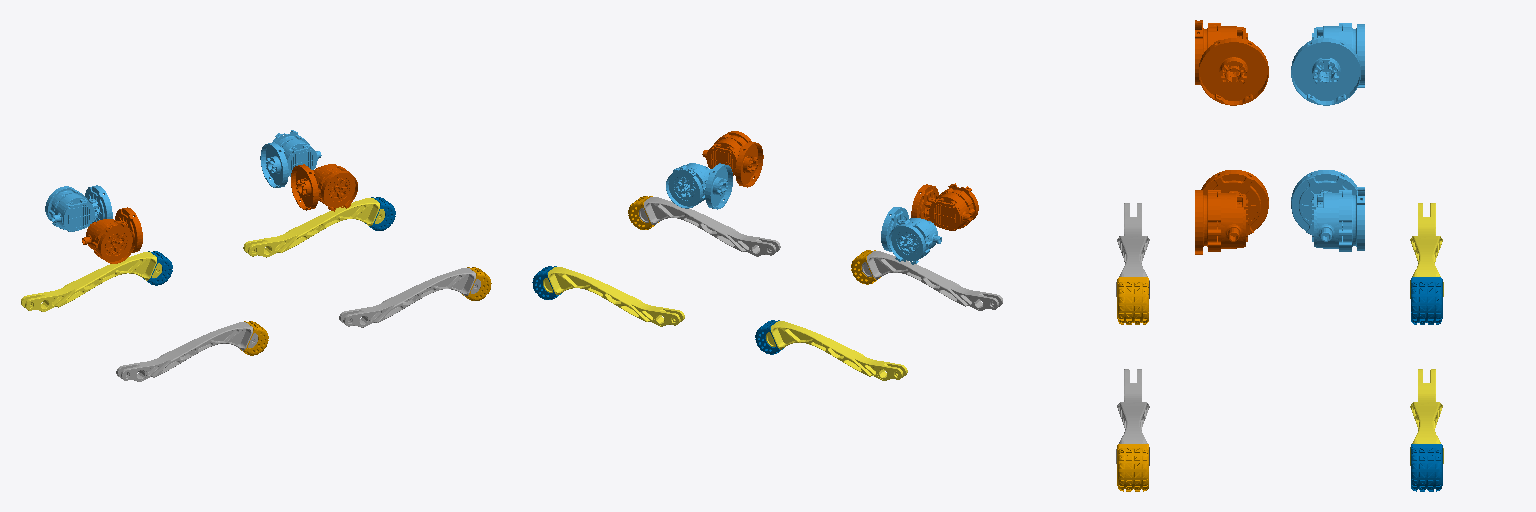
URDF robot description (bpxPro):
<?xml version="1.0"?>
<robot name="bpxPro">
    <link name="torso">
      <visual>
        <origin xyz="0 0 0" rpy="0 0 0" />
        <geometry>
          <mesh filename="meshes/torso.obj" />
        </geometry>
      </visual>
      <collision>
        <origin xyz="0 0 0" rpy="0 0 0" />
        <geometry>
          <box size="0.3412 0.16 0.15386" />
        </geometry>
      </collision>
      <collision>
        <origin xyz="0.281 0 0" rpy="0 0 0" />
        <geometry>
          <box size="0.0132 0.136 0.026" />
        </geometry>
      </collision>
      <collision>
        <origin xyz="-0.281 0 0" rpy="0 0 0" />
        <geometry>
          <box size="0.0132 0.136 0.026" />
        </geometry>
      </collision>
      <collision>
        <origin xyz="-0.12 0 -0.09" rpy="0 0 0" />
        <geometry>
          <box size="0.06 0.16 0.03" />
        </geometry>
      </collision>
      <collision>
        <origin xyz="0.12 0 -0.09" rpy="0 0 0" />
        <geometry>
          <box size="0.06 0.16 0.03" />
        </geometry>
      </collision>
      <inertial>
        <origin xyz="0.015138 0 -0.0031218" rpy="0 0 0" />
        <mass value="7.879" />
        <inertia ixx="0.0379606" ixy="0" ixz="0.0005035" iyy="0.1520651" iyz="0" izz="0.1678137" />
      </inertial>
    </link>

    <link name="fl_hip_link">
      <visual>
        <origin xyz="0 0 0" rpy="0 0 0" />
        <geometry>
          <mesh filename="meshes/hip.obj" />
        </geometry>
      </visual>
      <inertial>
        <origin xyz="-0.0117107 0.015125 0.0003297" rpy="0 0 0" />
        <mass value="0.594" />
        <inertia ixx="0.0004188" ixy="0.0000537" ixz="0" iyy="0.0005852" iyz="0" izz="0.000553" />
      </inertial>
    </link>

    <link name="fl_thigh_link">
      <visual>
        <origin xyz="0 0 0" rpy="0 0 0" />
        <geometry>
          <mesh filename="meshes/l_thigh.obj" />
        </geometry>
      </visual>
      <collision>
        <origin xyz="0 -0.0225 0" rpy="-1.5707963 0 0" />
        <geometry>
          <cylinder radius="0.045" length="0.09" />
        </geometry>
      </collision>
      <collision>
        <origin xyz="-0.02 0.005 -0.11" rpy="-1.5707963 0 0" />
        <geometry>
          <box size="0.045 0.14 0.028" />
        </geometry>
      </collision>
      <inertial>
        <origin xyz="-0.0034539 -0.0194901 -0.0388481" rpy="0 0 0" />
        <mass value="1.492" />
        <inertia ixx="0.0069641" ixy="-0.0000916" ixz="0.0003719" iyy="0.0067916" iyz="-0.000981" izz="0.0018542" />
      </inertial>
    </link>

    <link name="fl_calf_link">
      <visual>
        <origin xyz="0 0 0" rpy="0 0 0" />
        <geometry>
          <mesh filename="meshes/calf.obj" />
        </geometry>
      </visual>
      <collision>
        <origin xyz="0.01 0 -0.11" rpy="0 -0.1396263 0" />
        <geometry>
          <box size="0.018 0.02 0.15" />
        </geometry>
      </collision>
      <collision>
        <origin xyz="0.01 0 -0.21" rpy="0 0.1919862 0" />
        <geometry>
          <box size="0.03 0.02 0.05" />
        </geometry>
      </collision>
      <inertial>
        <origin xyz="0.0057553 0 -0.1044172" rpy="0 0 0" />
        <mass value="0.2705" />
        <inertia ixx="0.00211" ixy="0" ixz="-0.00005" iyy="0.00213" iyz="0" izz="0.00005" />
      </inertial>
    </link>

    <link name="fl_toe_link">
      <visual>
        <origin xyz="0 0 0" rpy="0 0 0" />
        <geometry>
          <mesh filename="meshes/toe.obj" />
        </geometry>
      </visual>
      <collision>
        <origin xyz="-0.0053806 0 -0.01" rpy="-1.5707963 0 0" />
        <geometry>
          <cylinder radius="0.0285" length="0.0385" />
        </geometry>
      </collision>
      <inertial>
        <origin xyz="-0.0089596 0 -0.0146301" rpy="0 0 0" />
        <mass value="0.062" />
        <inertia ixx="0.00002" ixy="0" ixz="0" iyy="0.00002" iyz="0" izz="0.00002" />
      </inertial>
    </link>

    <link name="fr_hip_link">
      <visual>
        <origin xyz="0 0 0" rpy="3.1416 0 0" />
        <geometry>
          <mesh filename="meshes/hip.obj" />
        </geometry>
      </visual>
      <inertial>
        <origin xyz="-0.0117107 -0.015125 0.0003297" rpy="0 0 0" />
        <mass value="0.594" />
        <inertia ixx="0.0004188" ixy="-0.0000537" ixz="0" iyy="0.0005852" iyz="0" izz="0.000553" />
      </inertial>
    </link>

    <link name="fr_thigh_link">
      <visual>
        <origin xyz="0 0 0" rpy="0 0 0" />
        <geometry>
          <mesh filename="meshes/r_thigh.obj" />
        </geometry>
      </visual>
      <collision>
        <origin xyz="0 0.0225 0" rpy="-1.5707963 0 0" />
        <geometry>
          <cylinder radius="0.045" length="0.09" />
        </geometry>
      </collision>
      <collision>
        <origin xyz="-0.02 -0.005 -0.11" rpy="-1.5707963 0 0" />
        <geometry>
          <box size="0.045 0.14 0.028" />
        </geometry>
      </collision>
      <inertial>
        <origin xyz="-0.0034539 0.0194901 -0.0388481" rpy="0 0 0" />
        <mass value="1.492" />
        <inertia ixx="0.0069641" ixy="0.0000916" ixz="0.0003719" iyy="0.0067916" iyz="0.000981" izz="0.0018542" />
      </inertial>
    </link>

    <link name="fr_calf_link">
      <visual>
        <origin xyz="0 0 0" rpy="0 0 0" />
        <geometry>
          <mesh filename="meshes/calf.obj" />
        </geometry>
      </visual>
      <collision>
        <origin xyz="0.01 0 -0.11" rpy="0 -0.1396263 0" />
        <geometry>
          <box size="0.018 0.02 0.15" />
        </geometry>
      </collision>
      <collision>
        <origin xyz="0.01 0 -0.21" rpy="0 0.1919862 0" />
        <geometry>
          <box size="0.03 0.02 0.05" />
        </geometry>
      </collision>
      <inertial>
        <origin xyz="0.0057553 0 -0.1044172" rpy="0 0 0" />
        <mass value="0.2705" />
        <inertia ixx="0.00211" ixy="0" ixz="-0.00005" iyy="0.00213" iyz="0" izz="0.00005" />
      </inertial>
    </link>

    <link name="fr_toe_link">
      <visual>
        <origin xyz="0 0 0" rpy="0 0 0" />
        <geometry>
          <mesh filename="meshes/toe.obj" />
        </geometry>
      </visual>
      <collision>
        <origin xyz="-0.0053806 0 -0.01" rpy="-1.5707963 0 0" />
        <geometry>
          <cylinder radius="0.0285" length="0.0385" />
        </geometry>
      </collision>
      <inertial>
        <origin xyz="-0.0089596 0 -0.0146301" rpy="0 0 0" />
        <mass value="0.062" />
        <inertia ixx="0.00002" ixy="0" ixz="0" iyy="0.00002" iyz="0" izz="0.00002" />
      </inertial>
    </link>

    <link name="hl_hip_link">
      <visual>
        <origin xyz="0 0 0" rpy="3.1416 0 3.1416" />
        <geometry>
          <mesh filename="meshes/hip.obj" />
        </geometry>
      </visual>
      <inertial>
        <origin xyz="0.0117107 0.015125 0.0003297" rpy="0 0 0" />
        <mass value="0.594" />
        <inertia ixx="0.0004188" ixy="-0.0000537" ixz="0" iyy="0.0005852" iyz="0" izz="0.000553" />
      </inertial>
    </link>

    <link name="hl_thigh_link">
      <visual>
        <origin xyz="0 0 0" rpy="0 0 0" />
        <geometry>
          <mesh filename="meshes/l_thigh.obj" />
        </geometry>
      </visual>
      <collision>
        <origin xyz="0 -0.0225 0" rpy="-1.5707963 0 0" />
        <geometry>
          <cylinder radius="0.045" length="0.09" />
        </geometry>
      </collision>
      <collision>
        <origin xyz="-0.02 0.005 -0.11" rpy="-1.5707963 0 0" />
        <geometry>
          <box size="0.045 0.14 0.028" />
        </geometry>
      </collision>
      <inertial>
        <origin xyz="-0.0034539 -0.0194901 -0.0388481" rpy="0 0 0" />
        <mass value="1.492" />
        <inertia ixx="0.0069641" ixy="-0.0000916" ixz="0.0003719" iyy="0.0067916" iyz="-0.000981" izz="0.0018542" />
      </inertial>
    </link>

    <link name="hl_calf_link">
      <visual>
        <origin xyz="0 0 0" rpy="0 0 0" />
        <geometry>
          <mesh filename="meshes/calf.obj" />
        </geometry>
      </visual>
      <collision>
        <origin xyz="0.01 0 -0.11" rpy="0 -0.1396263 0" />
        <geometry>
          <box size="0.018 0.02 0.15" />
        </geometry>
      </collision>
      <collision>
        <origin xyz="0.01 0 -0.21" rpy="0 0.1919862 0" />
        <geometry>
          <box size="0.03 0.02 0.05" />
        </geometry>
      </collision>
      <inertial>
        <origin xyz="0.0057553 0 -0.1044172" rpy="0 0 0" />
        <mass value="0.2705" />
        <inertia ixx="0.00211" ixy="0" ixz="-0.00005" iyy="0.00213" iyz="0" izz="0.00005" />
      </inertial>
    </link>

    <link name="hl_toe_link">
      <visual>
        <origin xyz="0 0 0" rpy="0 0 0" />
        <geometry>
          <mesh filename="meshes/toe.obj" />
        </geometry>
      </visual>
      <collision>
        <origin xyz="-0.0053806 0 -0.01" rpy="-1.5707963 0 0" />
        <geometry>
          <cylinder radius="0.0285" length="0.0385" />
        </geometry>
      </collision>
      <inertial>
        <origin xyz="-0.0089596 0 -0.0146301" rpy="0 0 0" />
        <mass value="0.062" />
        <inertia ixx="0.00002" ixy="0" ixz="0" iyy="0.00002" iyz="0" izz="0.00002" />
      </inertial>
    </link>

    <link name="hr_hip_link">
      <visual>
        <origin xyz="0 0 0" rpy="0 0 3.1416" />
        <geometry>
          <mesh filename="meshes/hip.obj" />
        </geometry>
      </visual>
      <inertial>
        <origin xyz="0.0117107 -0.015125 0.0003297" rpy="0 0 0" />
        <mass value="0.594" />
        <inertia ixx="0.0004188" ixy="0.0000537" ixz="0" iyy="0.0005852" iyz="0" izz="0.000553" />
      </inertial>
    </link>

    <link name="hr_thigh_link">
      <visual>
        <origin xyz="0 0 0" rpy="0 0 0" />
        <geometry>
          <mesh filename="meshes/r_thigh.obj" />
        </geometry>
      </visual>
      <collision>
        <origin xyz="0 0.0225 0" rpy="-1.5707963 0 0" />
        <geometry>
          <cylinder radius="0.045" length="0.09" />
        </geometry>
      </collision>
      <collision>
        <origin xyz="-0.02 -0.005 -0.11" rpy="-1.5707963 0 0" />
        <geometry>
          <box size="0.045 0.14 0.028" />
        </geometry>
      </collision>
      <inertial>
        <origin xyz="-0.0034539 0.0194901 -0.0388481" rpy="0 0 0" />
        <mass value="1.492" />
        <inertia ixx="0.0069641" ixy="0.0000916" ixz="0.0003719" iyy="0.0067916" iyz="0.000981" izz="0.0018542" />
      </inertial>
    </link>

    <link name="hr_calf_link">
      <visual>
        <origin xyz="0 0 0" rpy="0 0 0" />
        <geometry>
          <mesh filename="meshes/calf.obj" />
        </geometry>
      </visual>
      <collision>
        <origin xyz="0.01 0 -0.11" rpy="0 -0.1396263 0" />
        <geometry>
          <box size="0.018 0.02 0.15" />
        </geometry>
      </collision>
      <collision>
        <origin xyz="0.01 0 -0.21" rpy="0 0.1919862 0" />
        <geometry>
          <box size="0.03 0.02 0.05" />
        </geometry>
      </collision>
      <inertial>
        <origin xyz="0.0057553 0 -0.1044172" rpy="0 0 0" />
        <mass value="0.2705" />
        <inertia ixx="0.00211" ixy="0" ixz="-0.00005" iyy="0.00213" iyz="0" izz="0.00005" />
      </inertial>
    </link>

    <link name="hr_toe_link">
      <visual>
        <origin xyz="0 0 0" rpy="0 0 0" />
        <geometry>
          <mesh filename="meshes/toe.obj" />
        </geometry>
      </visual>
      <collision>
        <origin xyz="-0.0053806 0 -0.01" rpy="-1.5707963 0 0" />
        <geometry>
          <cylinder radius="0.0285" length="0.0385" />
        </geometry>
      </collision>
      <inertial>
        <origin xyz="-0.0089596 0 -0.0146301" rpy="0 0 0" />
        <mass value="0.062" />
        <inertia ixx="0.00002" ixy="0" ixz="0" iyy="0.00002" iyz="0" izz="0.00002" />
      </inertial>
    </link>

  <joint name="fl_hip_roll_joint" type="revolute">
    <parent link="torso" />
    <child link="fl_hip_link" />
    <origin xyz="0.2386 0.056 0" rpy="0 0 0" />
    <axis xyz="1 0 0" />
    <limit lower="-0.8727" upper="0.8727" effort="33" velocity="22" />
  </joint>

  <joint name="fl_hip_pitch_joint" type="revolute">
    <parent link="fl_hip_link" />
    <child link="fl_thigh_link" />
    <origin xyz="0 0.121596 0" rpy="0 0 0" />
    <axis xyz="0 1 0" />
    <limit lower="-0.7854" upper="2.6066" effort="33" velocity="22" />
  </joint>

  <joint name="fl_knee_joint" type="revolute">
    <parent link="fl_thigh_link" />
    <child link="fl_calf_link" />
    <origin xyz="0 0 -0.23" rpy="0 0 0" />
    <axis xyz="0 1 0" />
    <limit lower="-2.7531" upper="-0.5539" effort="50" velocity="15" />
  </joint>

  <joint name="fl_ankle_joint" type="fixed" dont_collapse="true">
    <parent link="fl_calf_link" />
    <child link="fl_toe_link" />
    <origin xyz="0 0 -0.23156" rpy="0 0 0" />
  </joint>

  <joint name="fr_hip_roll_joint" type="revolute">
    <parent link="torso" />
    <child link="fr_hip_link" />
    <origin xyz="0.2386 -0.056 0" rpy="0 0 0" />
    <axis xyz="1 0 0" />
    <limit lower="-0.8727" upper="0.8727" effort="33" velocity="22" />
  </joint>

  <joint name="fr_hip_pitch_joint" type="revolute">
    <parent link="fr_hip_link" />
    <child link="fr_thigh_link" />
    <origin xyz="0 -0.121596 0" rpy="0 0 0" />
    <axis xyz="0 1 0" />
    <limit lower="-0.7854" upper="2.6066" effort="33" velocity="22" />
  </joint>

  <joint name="fr_knee_joint" type="revolute">
    <parent link="fr_thigh_link" />
    <child link="fr_calf_link" />
    <origin xyz="0 0 -0.23" rpy="0 0 0" />
    <axis xyz="0 1 0" />
    <limit lower="-2.7531" upper="-0.5539" effort="50" velocity="15" />
  </joint>

  <joint name="fr_ankle_joint" type="fixed" dont_collapse="true">
    <parent link="fr_calf_link" />
    <child link="fr_toe_link" />
    <origin xyz="0 0 -0.23156" rpy="0 0 0" />
  </joint>

  <joint name="hl_hip_roll_joint" type="revolute">
    <parent link="torso" />
    <child link="hl_hip_link" />
    <origin xyz="-0.2386 0.056 0" rpy="0 0 0" />
    <axis xyz="1 0 0" />
    <limit lower="-0.8727" upper="0.8727" effort="33" velocity="22" />
  </joint>

  <joint name="hl_hip_pitch_joint" type="revolute">
    <parent link="hl_hip_link" />
    <child link="hl_thigh_link" />
    <origin xyz="0 0.121596 0" rpy="0 0 0" />
    <axis xyz="0 1 0" />
    <limit lower="-0.7854" upper="2.6066" effort="33" velocity="22" />
  </joint>

  <joint name="hl_knee_joint" type="revolute">
    <parent link="hl_thigh_link" />
    <child link="hl_calf_link" />
    <origin xyz="0 0 -0.23" rpy="0 0 0" />
    <axis xyz="0 1 0" />
    <limit lower="-2.7531" upper="-0.5539" effort="50" velocity="15" />
  </joint>

  <joint name="hl_ankle_joint" type="fixed" dont_collapse="true">
    <parent link="hl_calf_link" />
    <child link="hl_toe_link" />
    <origin xyz="0 0 -0.23156" rpy="0 0 0" />
  </joint>

  <joint name="hr_hip_roll_joint" type="revolute">
    <parent link="torso" />
    <child link="hr_hip_link" />
    <origin xyz="-0.2386 -0.056 0" rpy="0 0 0" />
    <axis xyz="1 0 0" />
    <limit lower="-0.8727" upper="0.8727" effort="33" velocity="22" />
  </joint>

  <joint name="hr_hip_pitch_joint" type="revolute">
    <parent link="hr_hip_link" />
    <child link="hr_thigh_link" />
    <origin xyz="0 -0.121596 0" rpy="0 0 0" />
    <axis xyz="0 1 0" />
    <limit lower="-0.7854" upper="2.6066" effort="33" velocity="22" />
  </joint>

  <joint name="hr_knee_joint" type="revolute">
    <parent link="hr_thigh_link" />
    <child link="hr_calf_link" />
    <origin xyz="0 0 -0.23" rpy="0 0 0" />
    <axis xyz="0 1 0" />
    <limit lower="-2.7531" upper="-0.5539" effort="50" velocity="15" />
  </joint>

  <joint name="hr_ankle_joint" type="fixed" dont_collapse="true">
    <parent link="hr_calf_link" />
    <child link="hr_toe_link" />
    <origin xyz="0 0 -0.23156" rpy="0 0 0" />
  </joint>

</robot>

--- Facts derived from the render (not from the file) ---
The picture shows the robot from 3 angles, left to right: view 1: azimuth 30°, elevation 25°; view 2: azimuth 150°, elevation 25°; view 3: azimuth 270°, elevation 25°; orthographic projection.
Model bpxPro with 17 links and 16 joints (12 revolute, 4 fixed), rooted at torso, posed all joints at 0 but 4 set to mid-range because 0 is outside their limits (fl_knee_joint = -1.65, fr_knee_joint = -1.65, hl_knee_joint = -1.65, hr_knee_joint = -1.65).
Visible links, largest first — view 1: fr_hip_link, hr_calf_link, fr_calf_link, hl_calf_link, fl_calf_link, hl_hip_link, hr_hip_link, fl_hip_link; view 2: fl_hip_link, hl_calf_link, fl_calf_link, fr_calf_link, hr_calf_link, hr_hip_link, hl_hip_link, fr_hip_link; view 3: hr_hip_link, fr_hip_link, hl_hip_link, fl_hip_link, fl_calf_link, fr_calf_link, hl_calf_link, hr_calf_link, hl_toe_link, hr_toe_link, fl_toe_link, fr_toe_link.
Link boxes in pixels (x1=…): fr_hip_link: x1=291, y1=164, x2=357, y2=211; hr_calf_link: x1=116, y1=322, x2=257, y2=381; fr_calf_link: x1=339, y1=268, x2=480, y2=327; hl_calf_link: x1=21, y1=252, x2=161, y2=311; fl_calf_link: x1=243, y1=198, x2=384, y2=257; hl_hip_link: x1=45, y1=185, x2=112, y2=231; hr_hip_link: x1=82, y1=207, x2=142, y2=263; fl_hip_link: x1=260, y1=130, x2=321, y2=187; fl_hip_link: x1=666, y1=163, x2=732, y2=209; hl_calf_link: x1=766, y1=321, x2=907, y2=380; fl_calf_link: x1=543, y1=267, x2=684, y2=326; fr_calf_link: x1=639, y1=197, x2=780, y2=256; hr_calf_link: x1=862, y1=251, x2=1002, y2=310; hr_hip_link: x1=911, y1=183, x2=978, y2=230; hl_hip_link: x1=881, y1=207, x2=941, y2=264; fr_hip_link: x1=702, y1=131, x2=763, y2=187; hr_hip_link: x1=1195, y1=20, x2=1268, y2=105; fr_hip_link: x1=1195, y1=170, x2=1268, y2=254; hl_hip_link: x1=1291, y1=23, x2=1364, y2=105; fl_hip_link: x1=1291, y1=170, x2=1364, y2=251; fl_calf_link: x1=1410, y1=369, x2=1443, y2=465; fr_calf_link: x1=1116, y1=369, x2=1149, y2=465; hl_calf_link: x1=1410, y1=203, x2=1443, y2=298; hr_calf_link: x1=1116, y1=203, x2=1149, y2=298; hl_toe_link: x1=1411, y1=277, x2=1442, y2=324; hr_toe_link: x1=1117, y1=277, x2=1148, y2=324; fl_toe_link: x1=1411, y1=444, x2=1442, y2=491; fr_toe_link: x1=1117, y1=444, x2=1148, y2=491.
Size in the robot's own frame: 0.7954 by 0.3962 by 0.2881 metres.
Meshes: 6 distinct files referenced, 12 mesh visuals loaded (3 OBJ); not drawn: 5 (reference not matched to a file when rendering).
